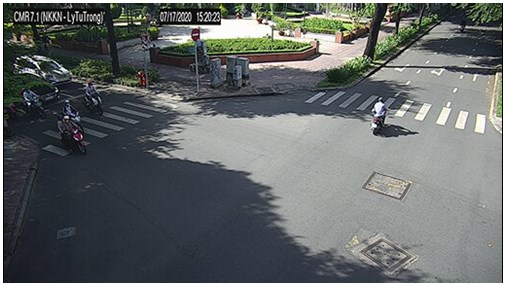xe_hoi: (13, 54, 74, 86)
xe_may: (57, 115, 87, 154), (63, 99, 85, 131), (23, 86, 45, 118), (85, 82, 104, 114), (371, 95, 387, 132)
